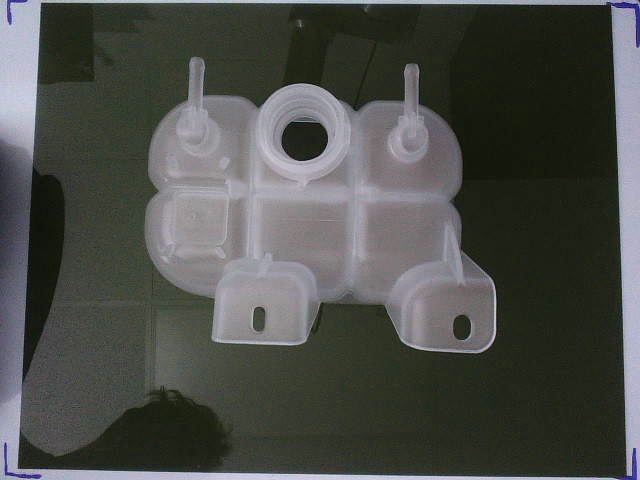reservoir_transparent_Top: (144, 57, 496, 354)
